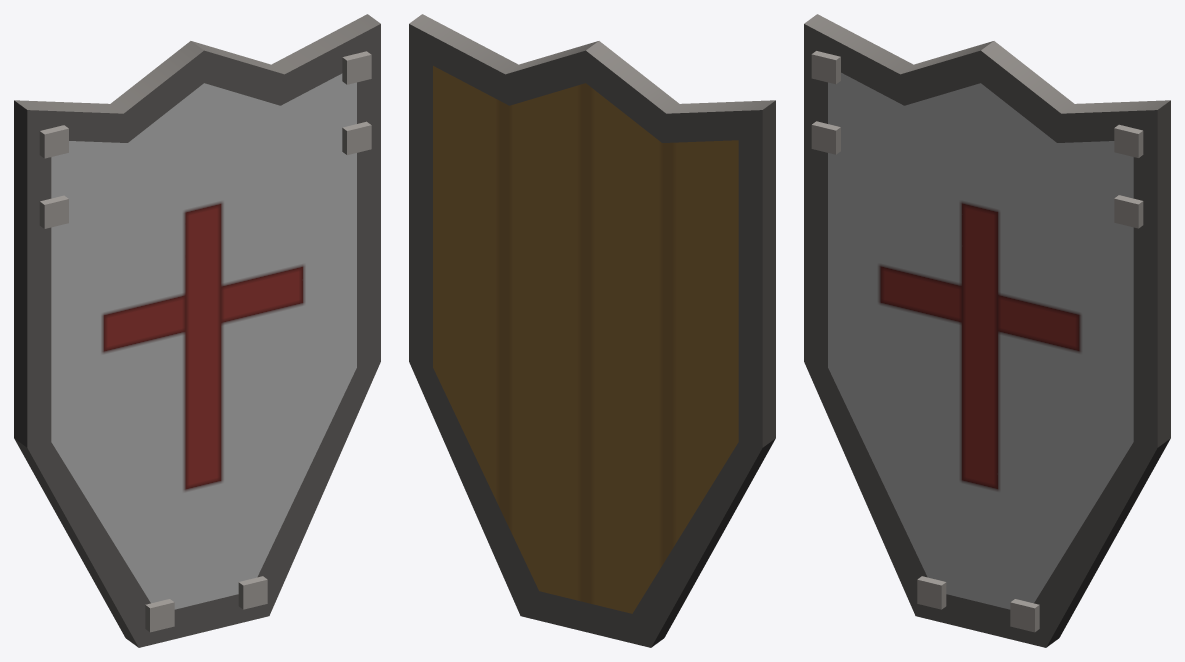
File: SF_Wep_Human_Shield_02.fbx
3 renders of one model, left to right at view 1: azimuth 30°, elevation 25°; view 2: azimuth 150°, elevation 25°; view 3: azimuth 330°, elevation 25°, orthographic.
Visible parts, largest first — view 1: SF_Wep_Human_Shield_02; view 2: SF_Wep_Human_Shield_02; view 3: SF_Wep_Human_Shield_02.
Boxes of the visible parts, x1=… form: SF_Wep_Human_Shield_02: x1=14, y1=14, x2=380, y2=647; SF_Wep_Human_Shield_02: x1=409, y1=14, x2=775, y2=647; SF_Wep_Human_Shield_02: x1=804, y1=14, x2=1170, y2=647.
Size of the model in its own units: 0.9564 by 1.5 by 0.0851.
